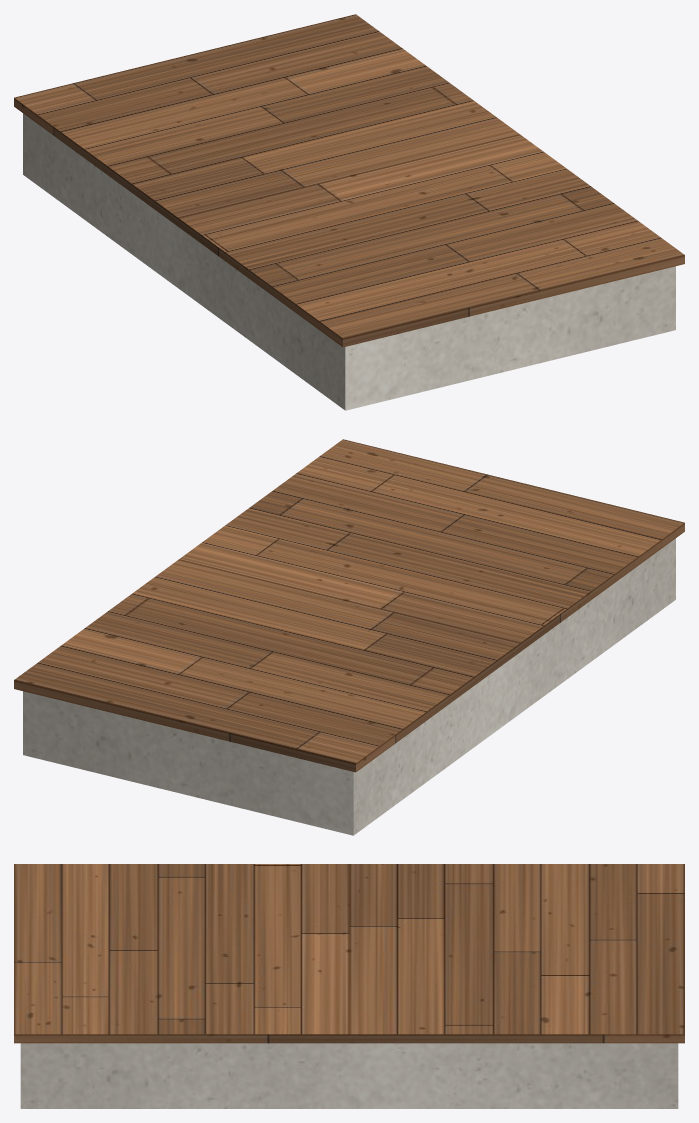
Rendered from floor_floor_u_h3.glb.
The picture shows the model from 3 angles, top to bottom: view 1: azimuth 30°, elevation 25°; view 2: azimuth 150°, elevation 25°; view 3: azimuth 270°, elevation 25°; orthographic projection.
Visible parts, largest first — view 1: floor_floor_u_h3_floor, floor_floor_u_h3_plaster; view 2: floor_floor_u_h3_floor, floor_floor_u_h3_plaster; view 3: floor_floor_u_h3_floor, floor_floor_u_h3_plaster.
Boxes of the visible parts, left/top/right/bottom form: floor_floor_u_h3_floor: left=14, top=14, right=684, bottom=347; floor_floor_u_h3_plaster: left=23, top=113, right=675, bottom=410; floor_floor_u_h3_floor: left=14, top=439, right=684, bottom=772; floor_floor_u_h3_plaster: left=23, top=538, right=675, bottom=835; floor_floor_u_h3_floor: left=14, top=864, right=684, bottom=1043; floor_floor_u_h3_plaster: left=20, top=1043, right=678, bottom=1108.
Bounding box in the file's own units: 1.2 × 0.255 × 2.
2 materials, 2 textured.
